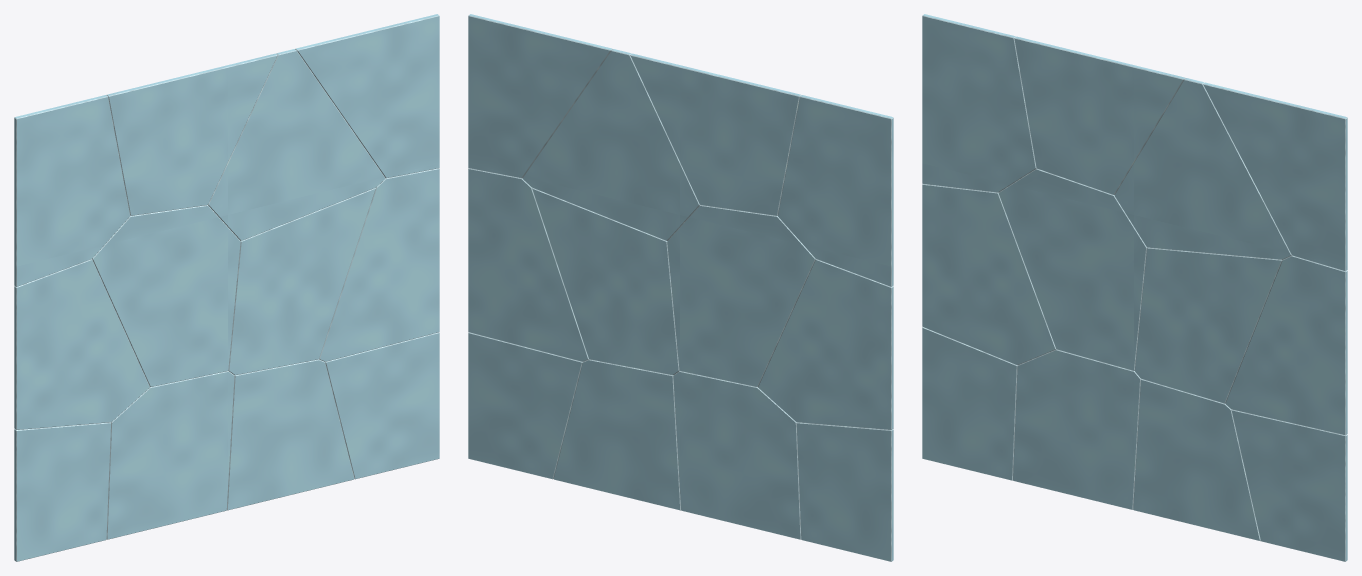
File: Kit_Glass_Wall_Fractured.glb
3 views of the same model, side by side, from view 1: azimuth 30°, elevation 25°; view 2: azimuth 150°, elevation 25°; view 3: azimuth 330°, elevation 25° (orthographic).
Parts seen in each view (by area): view 1: Kit_Glass_Wall_frag_05, Kit_Glass_Wall_frag_09, Kit_Glass_Wall_frag_02, Kit_Glass_Wall_frag_03, Kit_Glass_Wall_frag_04, Kit_Glass_Wall_frag_06, Kit_Glass_Wall_frag_08, Kit_Glass_Wall_frag_11, Kit_Glass_Wall_frag_12, Kit_Glass_Wall_frag_07, Kit_Glass_Wall_frag_10, Kit_Glass_Wall_frag_01; view 2: Kit_Glass_Wall_frag_05, Kit_Glass_Wall_frag_09, Kit_Glass_Wall_frag_02, Kit_Glass_Wall_frag_03, Kit_Glass_Wall_frag_04, Kit_Glass_Wall_frag_06, Kit_Glass_Wall_frag_08, Kit_Glass_Wall_frag_11, Kit_Glass_Wall_frag_12, Kit_Glass_Wall_frag_07, Kit_Glass_Wall_frag_10, Kit_Glass_Wall_frag_01; view 3: Kit_Glass_Wall_frag_05, Kit_Glass_Wall_frag_09, Kit_Glass_Wall_frag_02, Kit_Glass_Wall_frag_03, Kit_Glass_Wall_frag_04, Kit_Glass_Wall_frag_06, Kit_Glass_Wall_frag_08, Kit_Glass_Wall_frag_11, Kit_Glass_Wall_frag_12, Kit_Glass_Wall_frag_07, Kit_Glass_Wall_frag_10, Kit_Glass_Wall_frag_01.
Part boxes in pixels (left/top/right/bottom): Kit_Glass_Wall_frag_05: left=92, top=205, right=240, bottom=386; Kit_Glass_Wall_frag_09: left=208, top=49, right=385, bottom=240; Kit_Glass_Wall_frag_02: left=14, top=259, right=149, bottom=429; Kit_Glass_Wall_frag_03: left=14, top=95, right=130, bottom=286; Kit_Glass_Wall_frag_04: left=106, top=371, right=234, bottom=539; Kit_Glass_Wall_frag_06: left=106, top=53, right=277, bottom=215; Kit_Glass_Wall_frag_08: left=228, top=188, right=375, bottom=375; Kit_Glass_Wall_frag_11: left=319, top=168, right=439, bottom=361; Kit_Glass_Wall_frag_12: left=295, top=14, right=439, bottom=178; Kit_Glass_Wall_frag_07: left=227, top=359, right=354, bottom=510; Kit_Glass_Wall_frag_10: left=325, top=332, right=439, bottom=479; Kit_Glass_Wall_frag_01: left=14, top=422, right=111, bottom=561; Kit_Glass_Wall_frag_05: left=667, top=205, right=815, bottom=386; Kit_Glass_Wall_frag_09: left=522, top=49, right=699, bottom=240; Kit_Glass_Wall_frag_02: left=758, top=259, right=893, bottom=429; Kit_Glass_Wall_frag_03: left=777, top=95, right=893, bottom=286; Kit_Glass_Wall_frag_04: left=673, top=371, right=801, bottom=539; Kit_Glass_Wall_frag_06: left=630, top=53, right=801, bottom=215; Kit_Glass_Wall_frag_08: left=532, top=188, right=679, bottom=375; Kit_Glass_Wall_frag_11: left=468, top=168, right=588, bottom=361; Kit_Glass_Wall_frag_12: left=468, top=14, right=612, bottom=178; Kit_Glass_Wall_frag_07: left=553, top=359, right=680, bottom=510; Kit_Glass_Wall_frag_10: left=468, top=332, right=582, bottom=479; Kit_Glass_Wall_frag_01: left=796, top=422, right=893, bottom=561; Kit_Glass_Wall_frag_05: left=998, top=168, right=1147, bottom=370; Kit_Glass_Wall_frag_09: left=1114, top=78, right=1291, bottom=259; Kit_Glass_Wall_frag_02: left=922, top=184, right=1055, bottom=365; Kit_Glass_Wall_frag_03: left=922, top=14, right=1036, bottom=192; Kit_Glass_Wall_frag_04: left=1013, top=349, right=1140, bottom=509; Kit_Glass_Wall_frag_06: left=1014, top=36, right=1185, bottom=194; Kit_Glass_Wall_frag_08: left=1134, top=247, right=1282, bottom=403; Kit_Glass_Wall_frag_11: left=1225, top=255, right=1347, bottom=435; Kit_Glass_Wall_frag_12: left=1203, top=82, right=1347, bottom=271; Kit_Glass_Wall_frag_07: left=1133, top=379, right=1260, bottom=541; Kit_Glass_Wall_frag_10: left=1231, top=409, right=1347, bottom=561; Kit_Glass_Wall_frag_01: left=922, top=327, right=1017, bottom=480.
Size of what is drawn, in the model's own units: 3 by 3 by 0.03.
2 materials, 2 textured.
